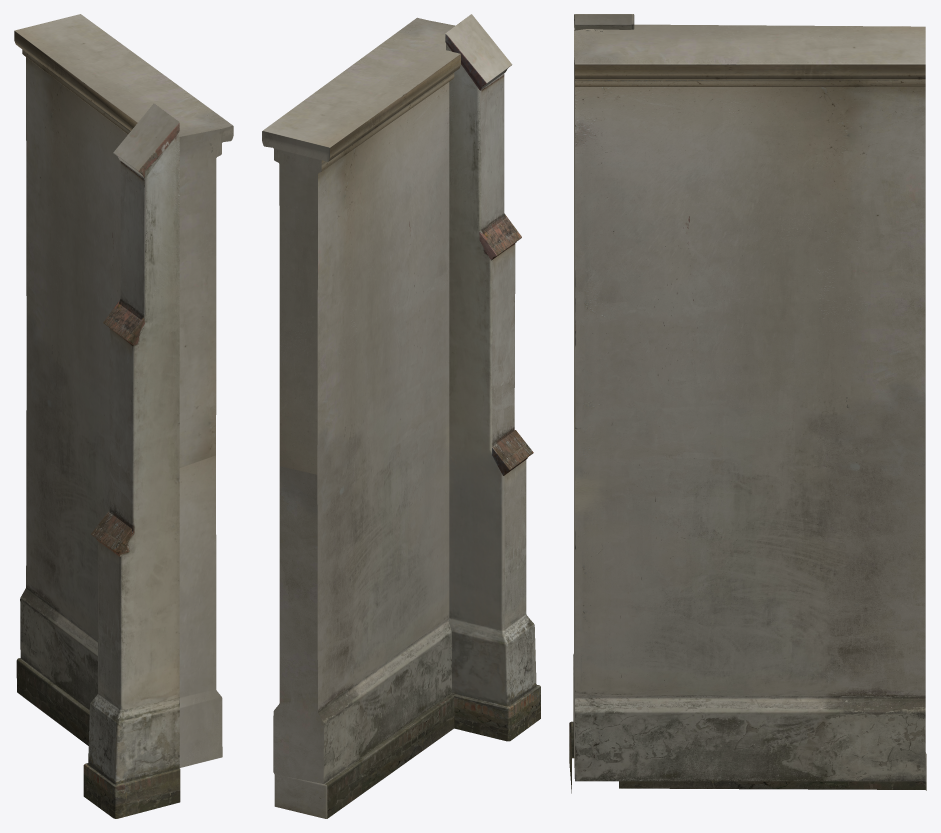
Rendered from sm_Church_01_17.fbx.
The picture shows the model from 3 angles, left to right: view 1: azimuth 30°, elevation 25°; view 2: azimuth 150°, elevation 25°; view 3: azimuth 270°, elevation 25°; orthographic projection. The views are drawn at different scales.
Parts seen in each view (by area): view 1: sm_Church_01_17_LOD0; view 2: sm_Church_01_17_LOD0; view 3: sm_Church_01_17_LOD0.
Part boxes in pixels (<box>): sm_Church_01_17_LOD0: <box>14,14,233,818</box>; sm_Church_01_17_LOD0: <box>262,14,540,818</box>; sm_Church_01_17_LOD0: <box>569,14,926,793</box>.
Size of the model in its own units: 151 by 337 by 812.
